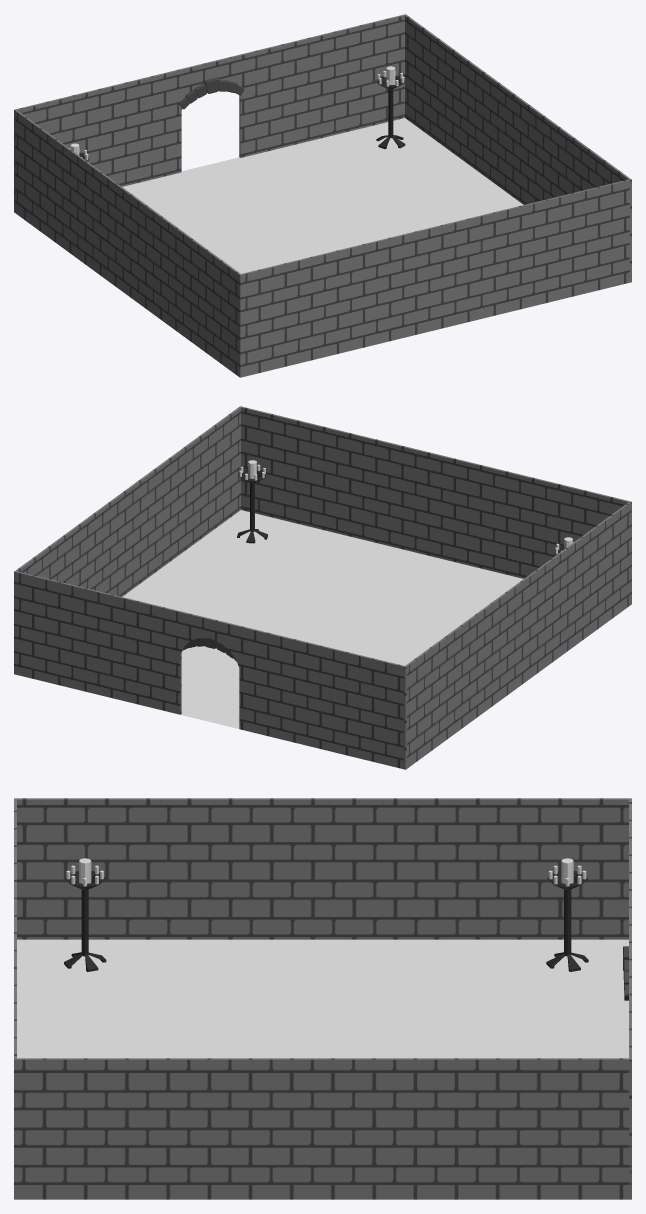
The model's file is Crypts Room 4.fbx.
3 views of the same model, one above another, from view 1: azimuth 30°, elevation 25°; view 2: azimuth 150°, elevation 25°; view 3: azimuth 270°, elevation 25° (orthographic). The views are drawn at different scales.
Visible parts, largest first — view 1: Plane.106, Plane.104, Plane.105, Plane.107, Plane.108, Door Topping.017, Cylinder.021; view 2: Plane.104, Plane.105, Plane.106, Plane.107, Plane.108, Cylinder.017; view 3: Plane.108, Plane.107, Plane.104, Cylinder.023, Cylinder.019, Plane.105, Plane.106, Cylinder.022, Cylinder.018.
Part boxes in pixels (x1=…): Plane.106: x1=239, y1=179, x2=631, y2=377; Plane.104: x1=122, y1=118, x2=523, y2=273; Plane.105: x1=14, y1=14, x2=406, y2=212; Plane.107: x1=15, y1=110, x2=241, y2=377; Plane.108: x1=405, y1=15, x2=631, y2=282; Door Topping.017: x1=178, y1=77, x2=244, y2=109; Cylinder.021: x1=376, y1=75, x2=405, y2=149; Plane.104: x1=122, y1=510, x2=523, y2=728; Plane.105: x1=14, y1=571, x2=406, y2=769; Plane.106: x1=240, y1=406, x2=631, y2=578; Plane.107: x1=404, y1=501, x2=631, y2=769; Plane.108: x1=14, y1=406, x2=241, y2=596; Cylinder.017: x1=237, y1=469, x2=267, y2=543; Plane.108: x1=14, y1=1058, x2=631, y2=1199; Plane.107: x1=14, y1=798, x2=631, y2=939; Plane.104: x1=17, y1=939, x2=628, y2=1058; Cylinder.023: x1=546, y1=871, x2=588, y2=971; Cylinder.019: x1=64, y1=871, x2=106, y2=971; Plane.105: x1=629, y1=798, x2=631, y2=1198; Plane.106: x1=14, y1=799, x2=16, y2=1058; Cylinder.022: x1=548, y1=858, x2=586, y2=886; Cylinder.018: x1=66, y1=858, x2=103, y2=886.
Bounding box in the file's own units: 2000 × 500 × 2000.
